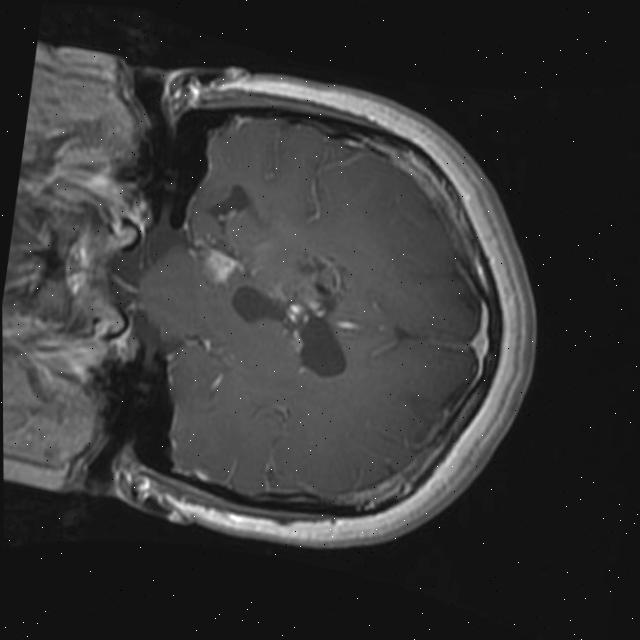Glioma: (282, 250, 354, 336)
